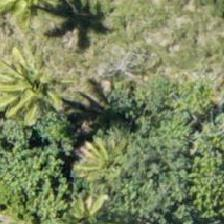coconut_tree: (59, 117, 149, 207), (0, 39, 87, 129), (0, 0, 77, 49)
